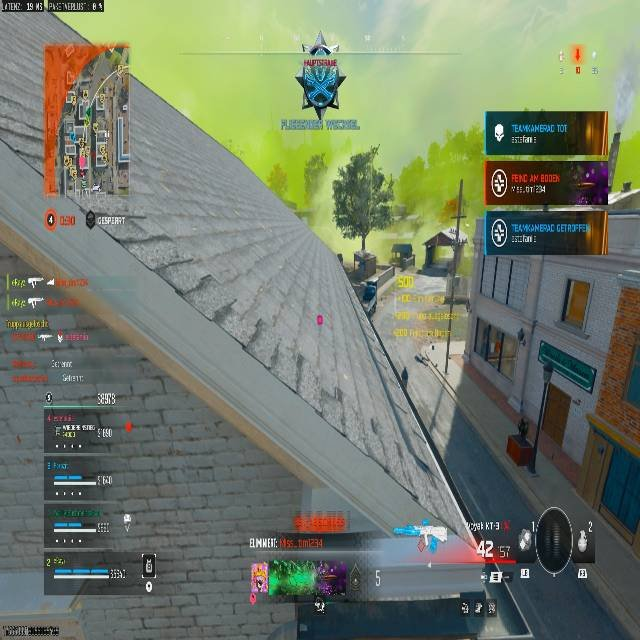player: (294, 43, 346, 119)
